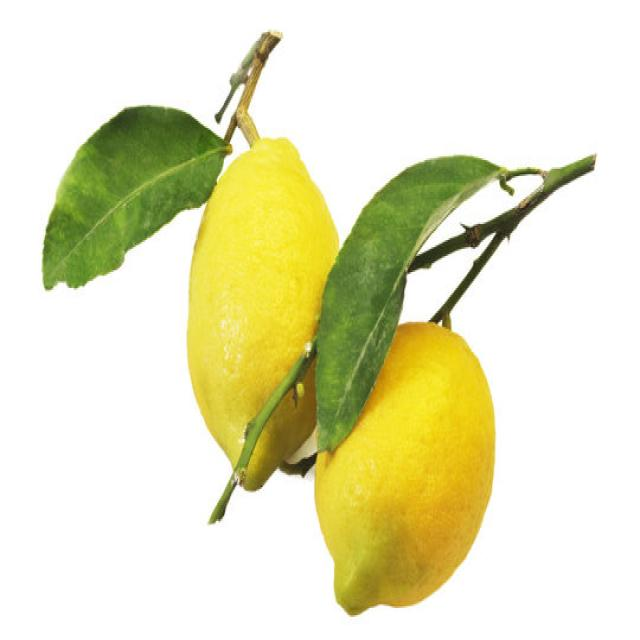Lemon: (185, 135, 339, 493), (313, 320, 495, 615)
